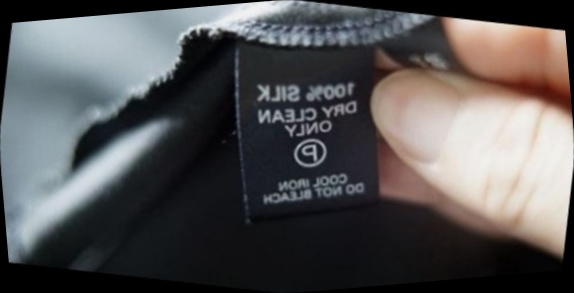dry_clean_any_solvent_except_trichloroethylene: (285, 129, 333, 175)
